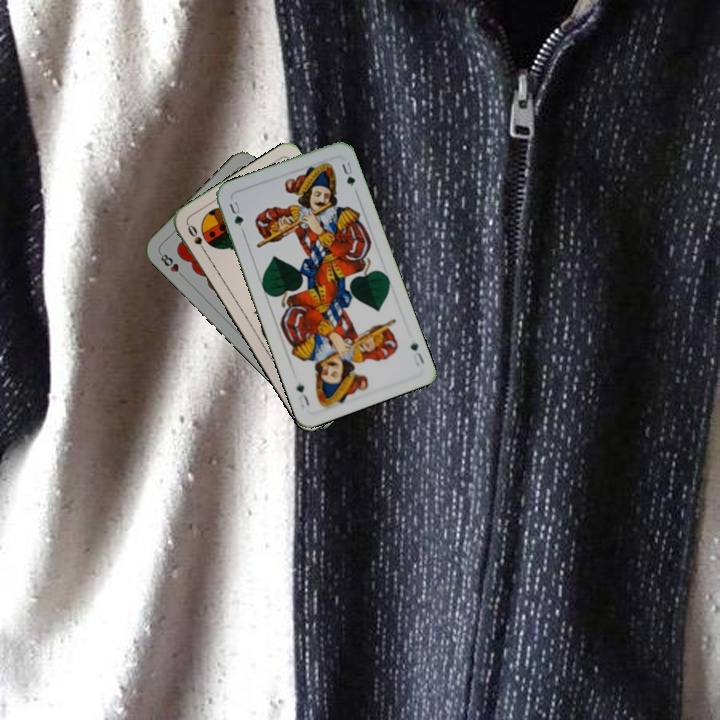GU: (225, 197, 246, 229), (406, 339, 427, 369)
H8: (155, 248, 188, 281)
SO: (183, 220, 210, 257)
